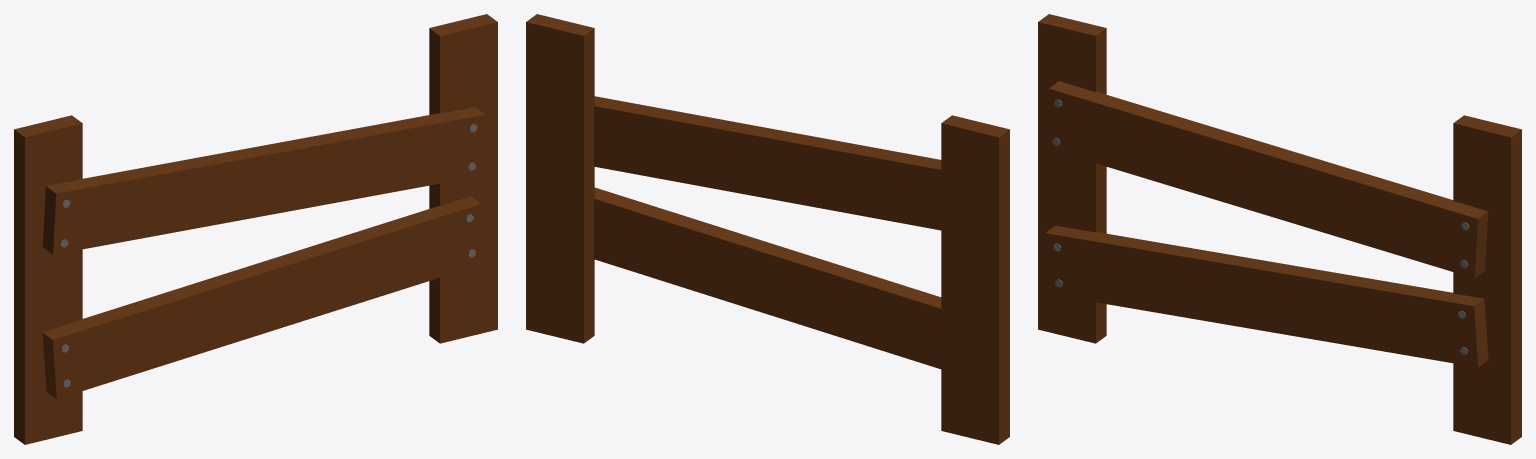
File: fence3.glb
3 renders of one model, left to right at view 1: azimuth 30°, elevation 25°; view 2: azimuth 150°, elevation 25°; view 3: azimuth 330°, elevation 25°, orthographic.
Visible parts, largest first — view 1: Fence3; view 2: Fence3; view 3: Fence3.
Part boxes in pixels (x1,y1,x2,y2): Fence3: (14,14,497,444); Fence3: (526,14,1009,444); Fence3: (1038,14,1521,444).
Bounding box in the file's own units: 3.51 × 2.18 × 0.2806.
2 materials, 1 textured.
